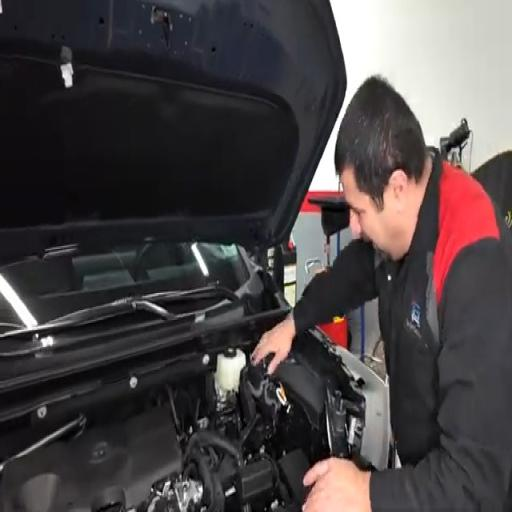hood: (0, 0, 346, 260)
window: (0, 242, 248, 322)
windshield: (0, 241, 248, 332)
